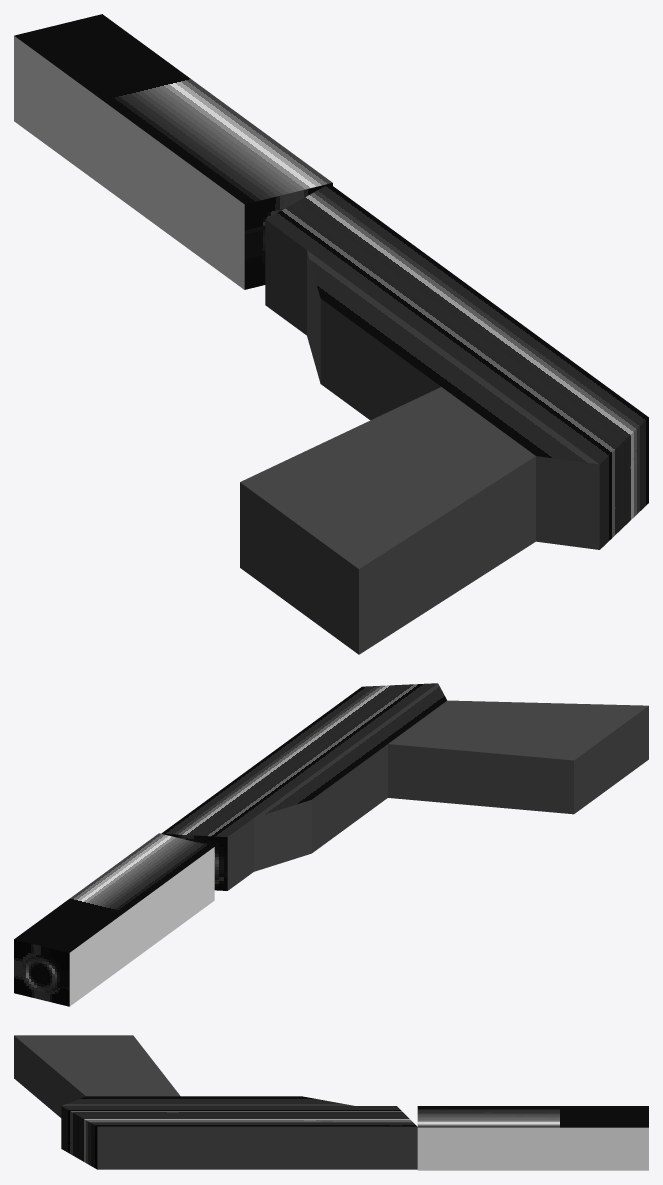
File: primary_039.glb
3 views of the same model, one above another, from view 1: azimuth 30°, elevation 25°; view 2: azimuth 150°, elevation 25°; view 3: azimuth 270°, elevation 25° (orthographic). The views are drawn at different scales.
Parts seen in each view (by area): view 1: Object; view 2: Object; view 3: Object.
Part boxes in pixels (x1=…): Object: x1=14, y1=14, x2=648, y2=654; Object: x1=14, y1=683, x2=648, y2=1006; Object: x1=14, y1=1035, x2=648, y2=1170.
Size of the model in its own units: 0.1301 by 0.0283 by 0.3789.
6 materials, 6 textured.
